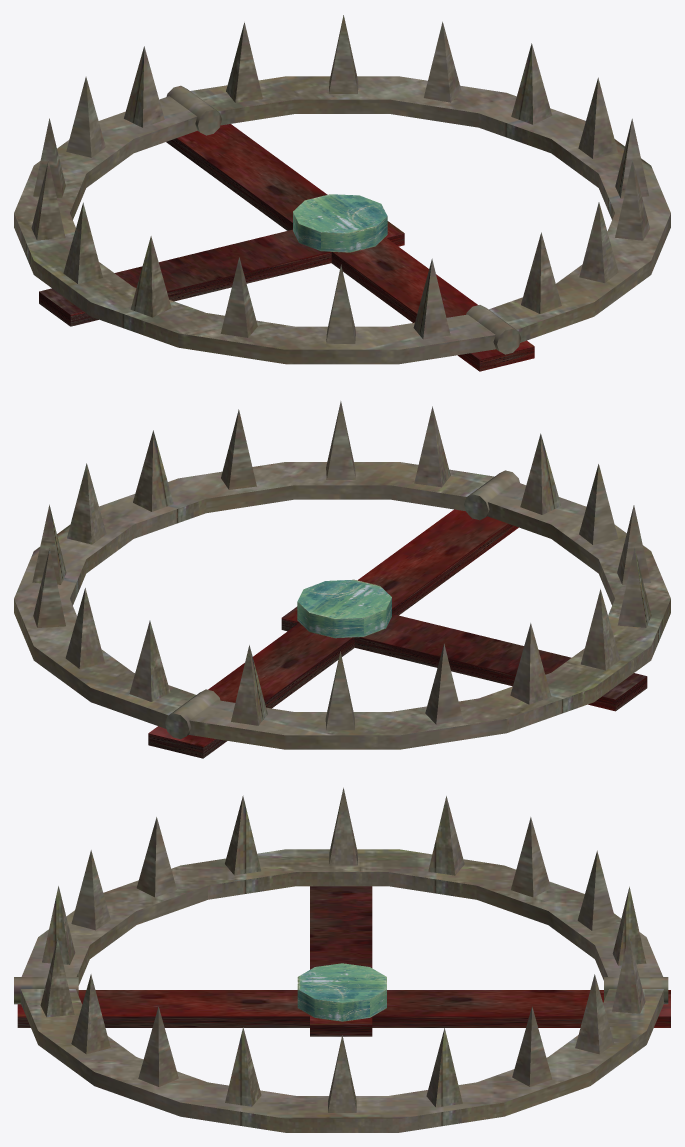
The model's file is Bear_trap.glb.
3 renders of one model, top to bottom at view 1: azimuth 30°, elevation 25°; view 2: azimuth 150°, elevation 25°; view 3: azimuth 270°, elevation 25°, orthographic.
Parts seen in each view (by area): view 1: Vsida_Iron_0_10, Hsida_Iron_0_8, BearTrap_BearTrap_0_6; view 2: Vsida_Iron_0_10, Hsida_Iron_0_8, BearTrap_BearTrap_0_6; view 3: Hsida_Iron_0_8, Vsida_Iron_0_10, BearTrap_BearTrap_0_6.
Part boxes in pixels (x1,y1,x2,y2): Vsida_Iron_0_10: (14, 46, 521, 364); Hsida_Iron_0_8: (190, 15, 670, 342); BearTrap_BearTrap_0_6: (39, 124, 534, 371); Vsida_Iron_0_10: (165, 433, 670, 749); Hsida_Iron_0_8: (14, 401, 494, 728); BearTrap_BearTrap_0_6: (148, 509, 647, 758); Hsida_Iron_0_8: (20, 934, 664, 1132); Vsida_Iron_0_10: (14, 787, 668, 1004); BearTrap_BearTrap_0_6: (17, 886, 670, 1036).
Size of the model in its own units: 0.0138 by 0.00244 by 0.014.
2 materials, 2 textured.
